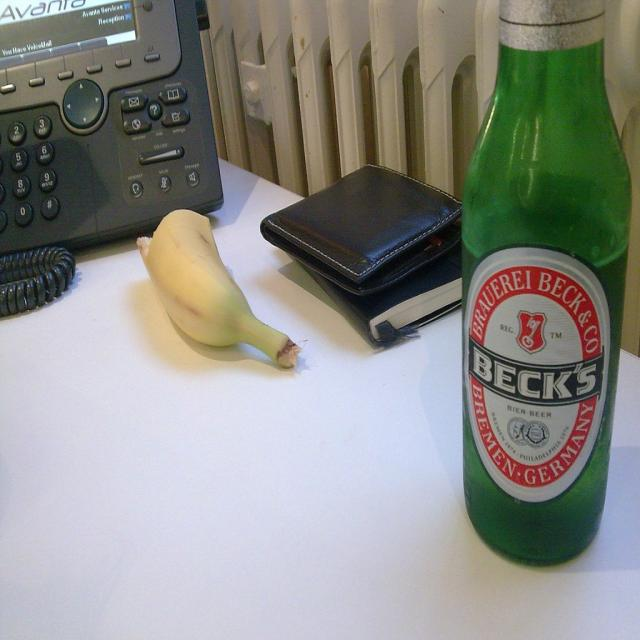becks: (462, 248, 612, 505)
